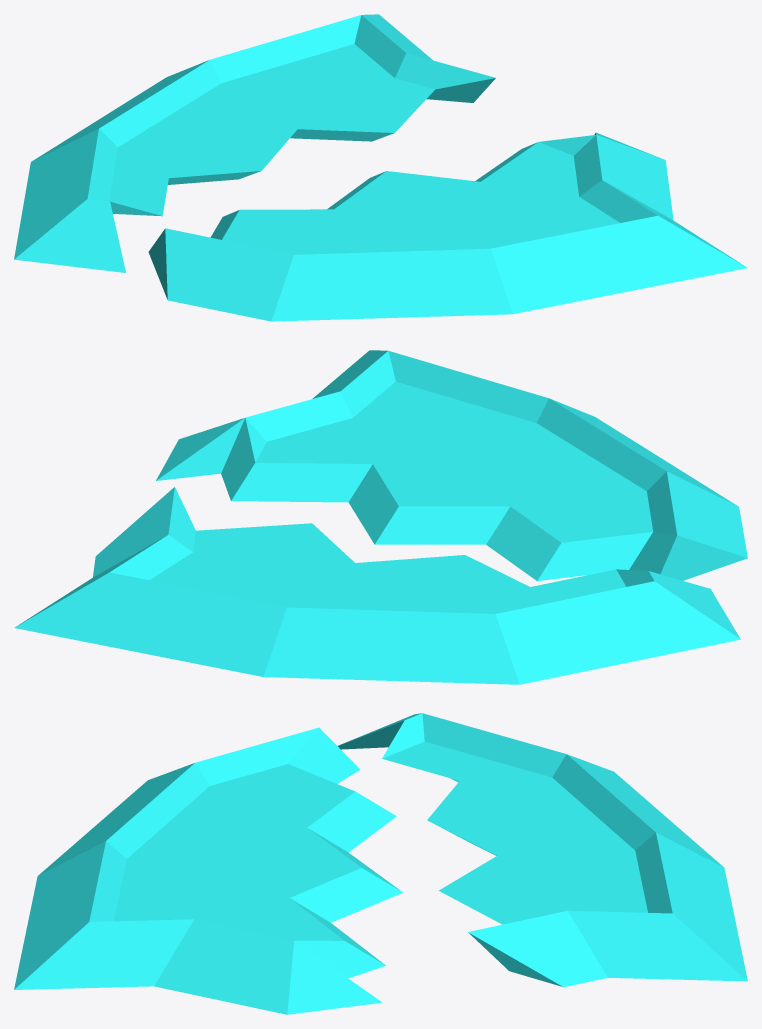
The model's file is RedukcjaPancerza.fbx.
3 views of the same model, one above another, from view 1: azimuth 30°, elevation 25°; view 2: azimuth 150°, elevation 25°; view 3: azimuth 270°, elevation 25° (orthographic). The views are drawn at different scales.
Visible parts, largest first — view 1: Cylinder; view 2: Cylinder; view 3: Cylinder.
Boxes of the visible parts, x1=… form: Cylinder: x1=14, y1=14, x2=747, y2=321; Cylinder: x1=14, y1=350, x2=747, y2=684; Cylinder: x1=14, y1=713, x2=747, y2=1014.
Size of the model in its own units: 436 by 27.5 by 450.
